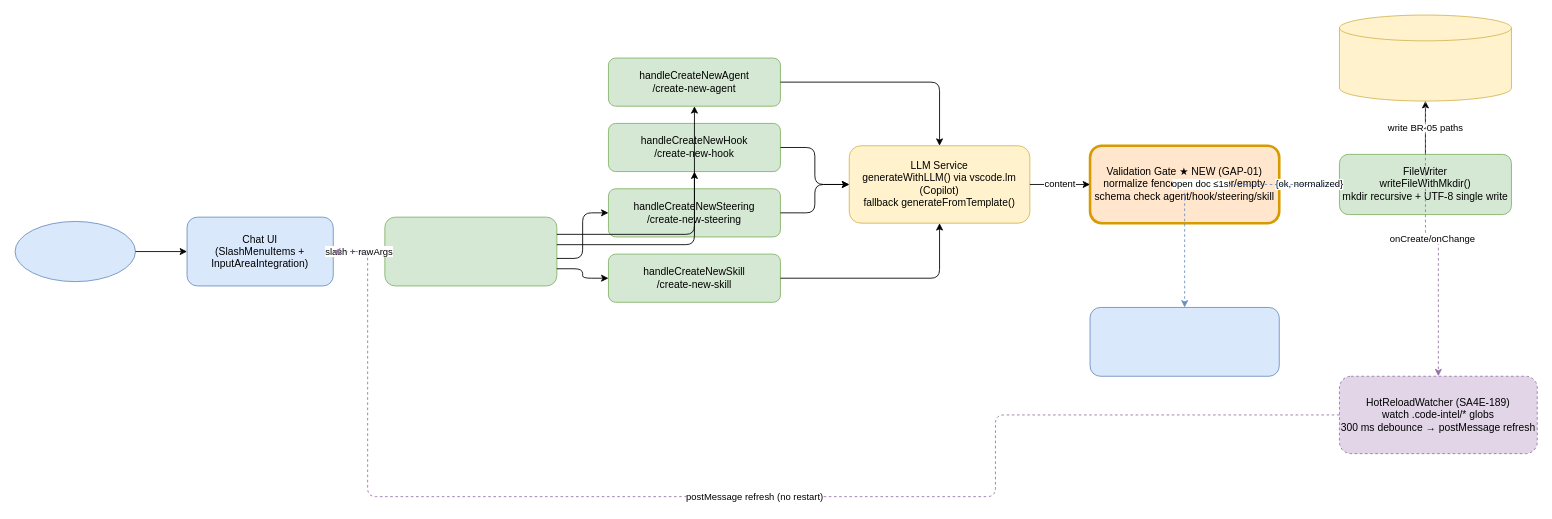
This 1552x519 diagram has some shape labels left out. The shapes that lost their labels are listed below. From the top down, each one's box as (x1, y1, x2, y2) in pixels, then its label:
(1339, 14, 1511, 101): .code-intel/ agents | hooks | steering | skills
(14, 221, 135, 282): Developer (User)
(384, 216, 557, 286): Command Registrar registerConfigCommands(context, workspaceRoot)
(1089, 307, 1279, 376): EditorService openTextDocument + showTextDocument (dual-tab when SA4E-190 ships)
